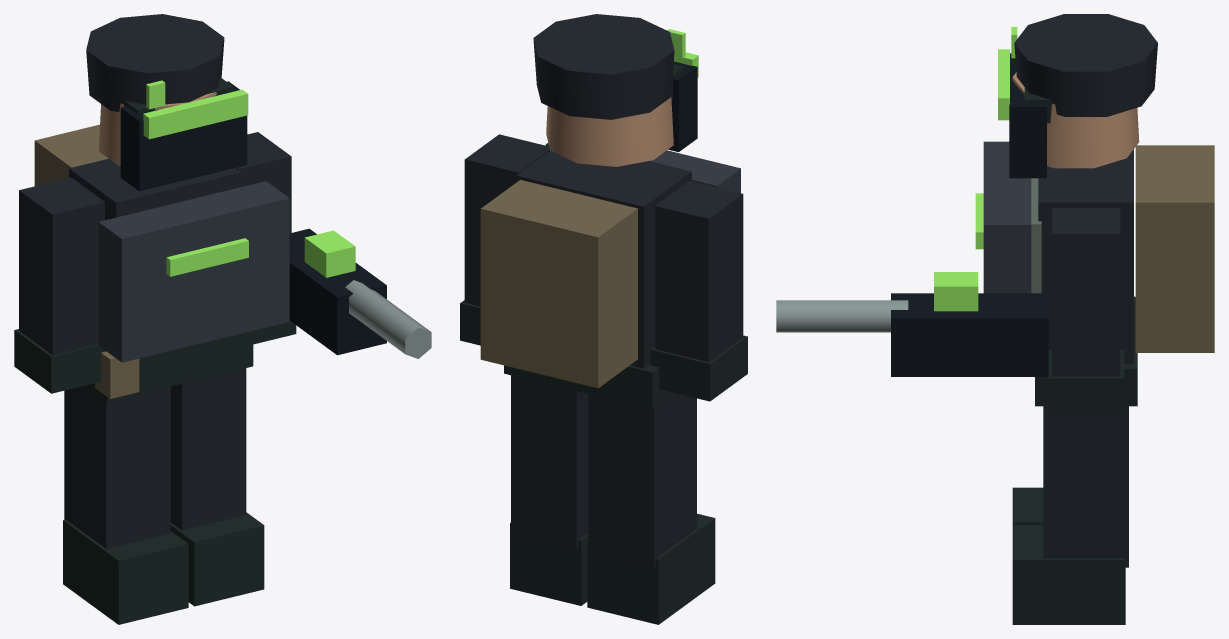
Rendered from sentinel_l01.glb.
The picture shows the model from 3 angles, left to right: view 1: azimuth 30°, elevation 25°; view 2: azimuth 150°, elevation 25°; view 3: azimuth 270°, elevation 25°; orthographic projection. The views are drawn at different scales.
Visible parts, largest first — view 1: trouser (×2), tactical_chest_plate, boot (×2), sleeve (×2), helmet, full_face_mask, heavy_carbine, body, belt, glove (×2), heavy_barrel, night_optics (+5 smaller); view 2: trouser (×2), field_pack, sleeve (×2), helmet, boot (×2), body, face, glove (×2), belt, full_face_mask, tactical_chest_plate; view 3: field_pack, trouser, heavy_carbine, helmet, sleeve, boot (×2), body, tactical_chest_plate, face, heavy_barrel, glove, full_face_mask (+4 smaller).
Boxes of the visible parts, x1,y1,x2,y2 form: trouser (×2): [64, 368, 246, 548]; tactical_chest_plate: [98, 181, 289, 362]; boot (×2): [63, 512, 264, 624]; sleeve (×2): [19, 132, 291, 354]; helmet: [86, 14, 224, 112]; full_face_mask: [120, 81, 247, 191]; heavy_carbine: [289, 228, 386, 355]; body: [69, 158, 241, 220]; belt: [85, 331, 253, 401]; glove (×2): [14, 321, 296, 393]; heavy_barrel: [345, 280, 431, 358]; night_optics: [143, 89, 248, 139]; trouser (×2): [511, 375, 696, 569]; field_pack: [480, 180, 637, 388]; sleeve (×2): [464, 134, 743, 362]; helmet: [533, 14, 674, 119]; boot (×2): [510, 513, 715, 624]; body: [516, 151, 691, 368]; face: [546, 97, 673, 166]; glove (×2): [460, 300, 747, 401]; belt: [504, 364, 674, 409]; full_face_mask: [668, 61, 697, 152]; tactical_chest_plate: [546, 143, 740, 193]; field_pack: [1135, 145, 1214, 352]; trouser: [1043, 406, 1128, 567]; heavy_carbine: [891, 293, 1048, 376]; helmet: [1014, 14, 1157, 116]; sleeve: [1052, 208, 1120, 376]; boot (×2): [1012, 487, 1125, 624]; body: [1038, 149, 1133, 363]; tactical_chest_plate: [983, 141, 1031, 293]; face: [1012, 72, 1139, 168]; heavy_barrel: [776, 300, 908, 332]; glove: [1048, 349, 1123, 415]; full_face_mask: [1009, 53, 1046, 178].
Size of the model in its own units: 0.885 by 1.76 by 1.28.
